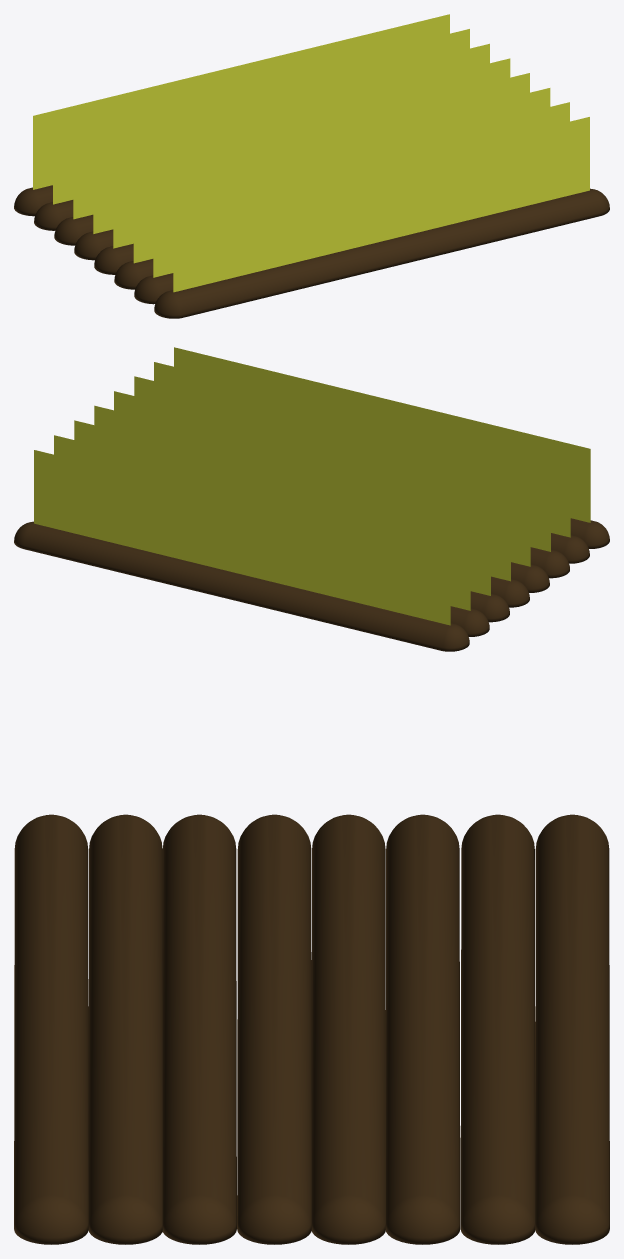
File: wheat.glb
The picture shows the model from 3 angles, top to bottom: view 1: azimuth 30°, elevation 25°; view 2: azimuth 150°, elevation 25°; view 3: azimuth 270°, elevation 25°; orthographic projection. The views are drawn at different scales.
Visible parts, largest first — view 1: Sphere; view 2: Sphere; view 3: Sphere.
Part boxes in pixels (x1,y1,x2,y2): Sphere: (14,14,609,318); Sphere: (14,347,609,651); Sphere: (14,814,609,1244).
Size of the model in its own units: 25.8 by 5.04 by 15.91.
